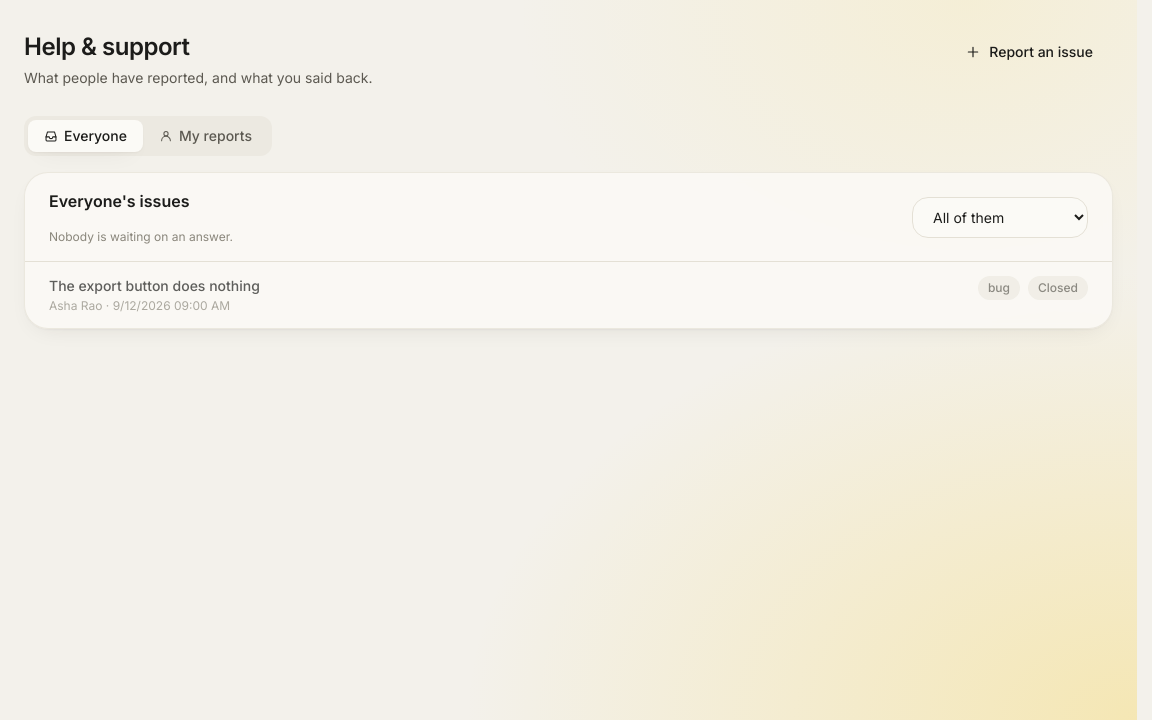
Scenario: the queue › offers no reply box on something closed, only a way back
The width and height of the screenshot is (1152, 720).
Click the button "export button": (154, 286) [25,262,1112,328]
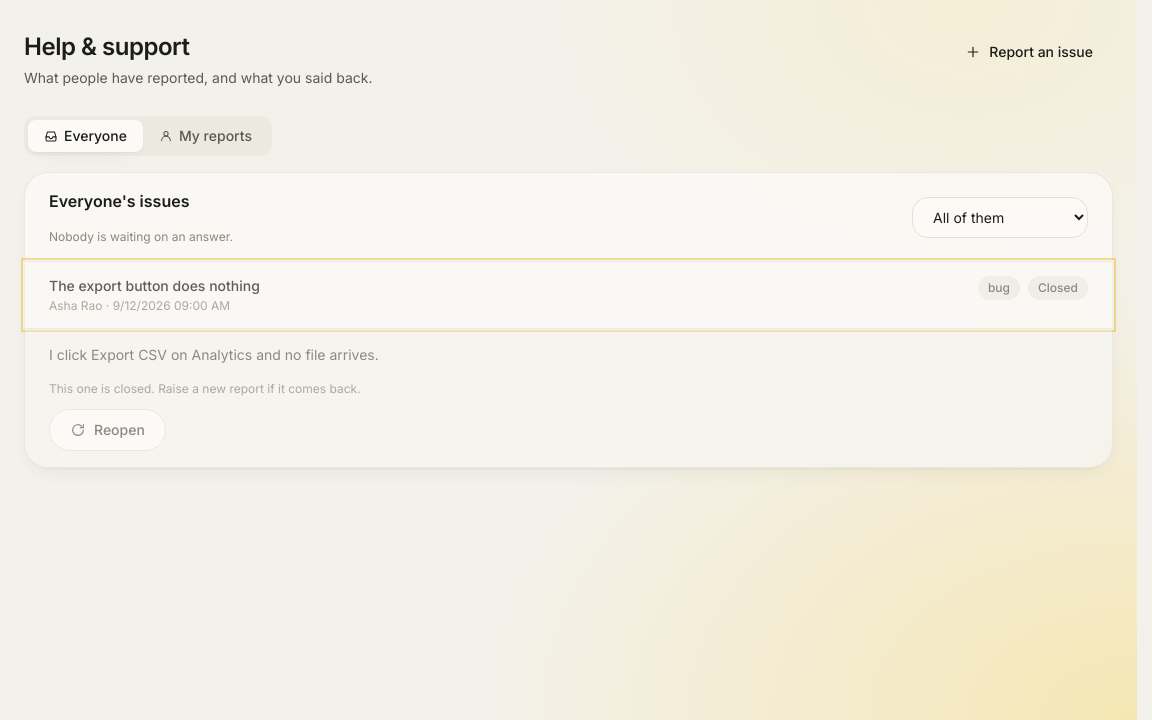
expect the button "Reopen" is shown: met, box [49,409,166,451]
